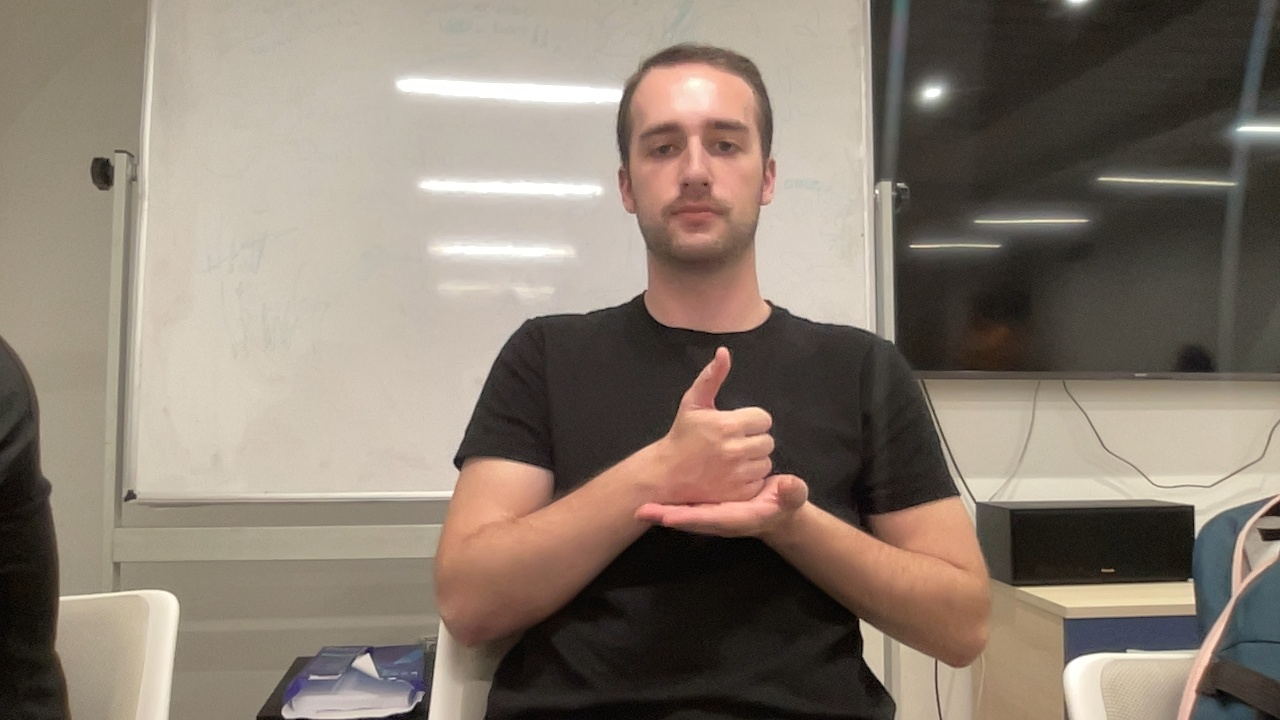Help: (628, 342, 814, 555)
